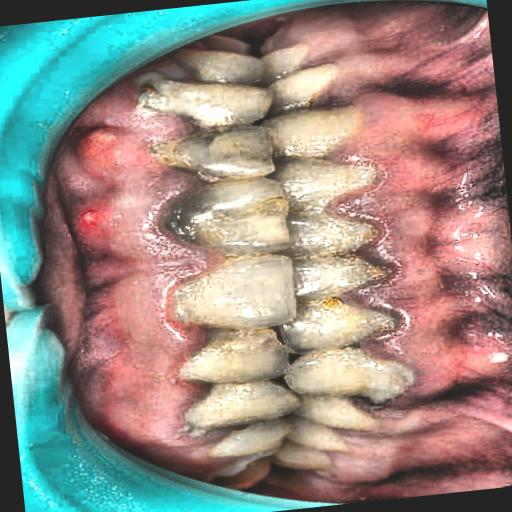Calculus: (138, 61, 392, 442)
